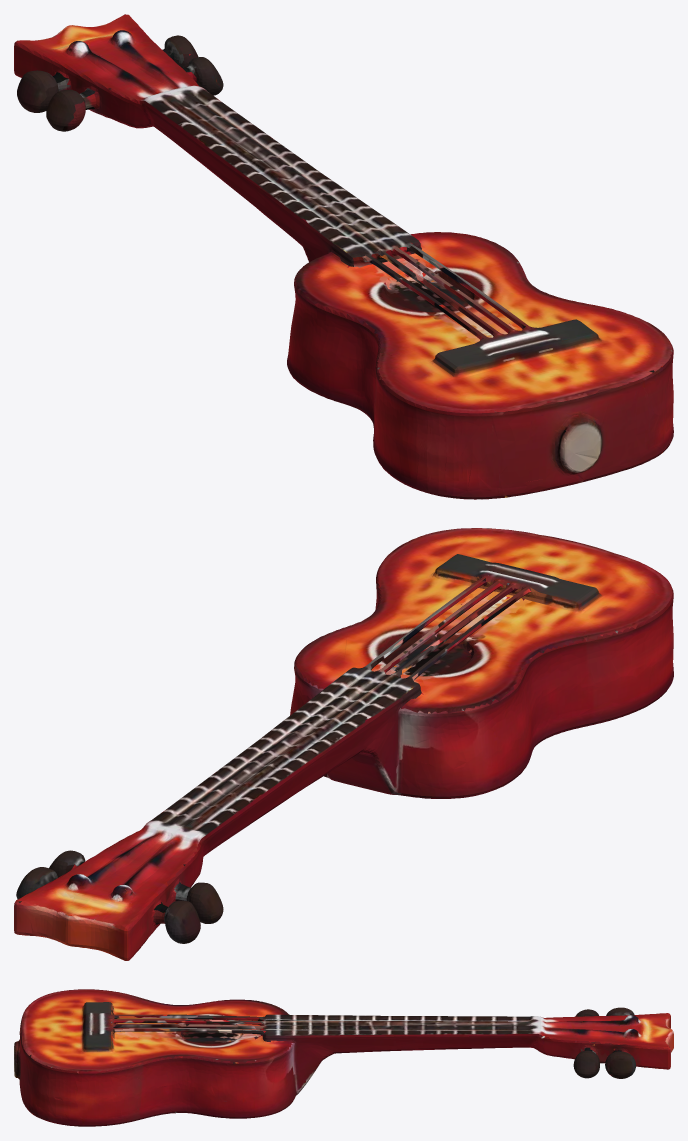
Rendered from oniel_weapon.glb.
3 views of the same model, one above another, from view 1: azimuth 30°, elevation 25°; view 2: azimuth 150°, elevation 25°; view 3: azimuth 270°, elevation 25° (orthographic). The views are drawn at different scales.
Parts seen in each view (by area): view 1: tmpahx100af.ply; view 2: tmpahx100af.ply; view 3: tmpahx100af.ply.
Part boxes in pixels (x1,y1,x2,y2): tmpahx100af.ply: (14,14,673,499); tmpahx100af.ply: (14,528,673,960); tmpahx100af.ply: (14,989,673,1126).
Bounding box in the file's own units: 0.5968 × 0.2167 × 1.99.
Materials: 1 (1 with a texture image).
